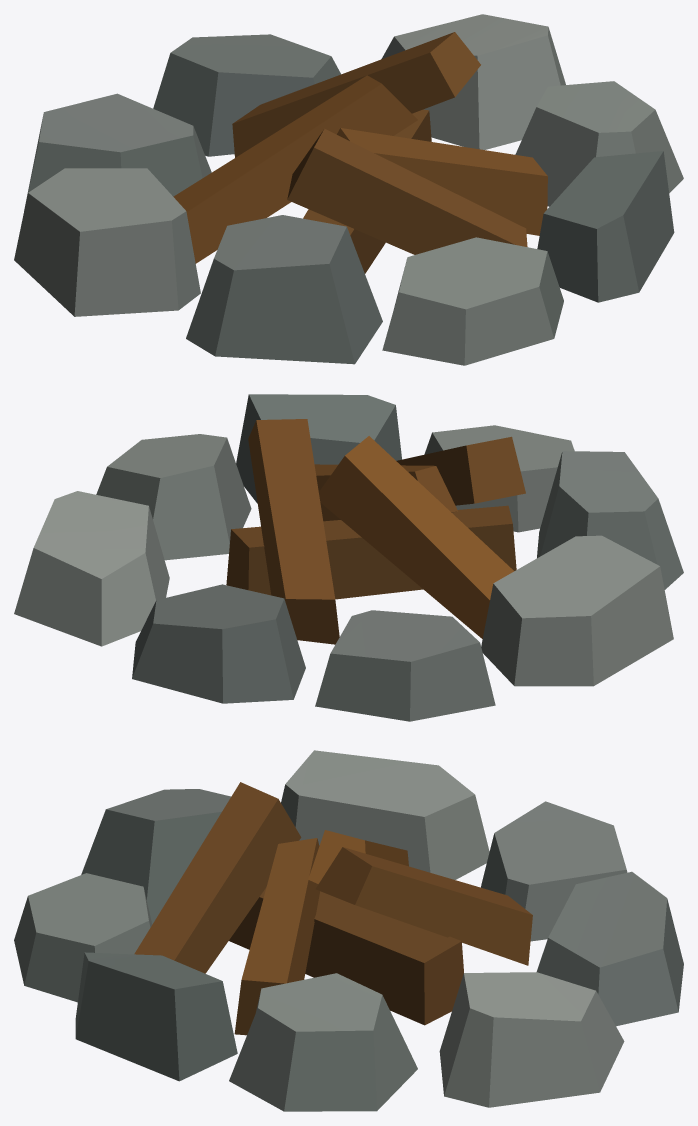
Rendered from SM_Bonfire_B.fbx.
3 views of the same model, one above another, from view 1: azimuth 30°, elevation 25°; view 2: azimuth 150°, elevation 25°; view 3: azimuth 270°, elevation 25° (orthographic). The views are drawn at different scales.
Parts seen in each view (by area): view 1: SM_Bonfire_B; view 2: SM_Bonfire_B; view 3: SM_Bonfire_B.
Boxes of the visible parts, x1,y1,x2,y2 form: SM_Bonfire_B: (14, 14, 683, 365); SM_Bonfire_B: (14, 394, 683, 721); SM_Bonfire_B: (14, 750, 683, 1111).
Size of the model in its own units: 96.82 by 24.71 by 95.14.
